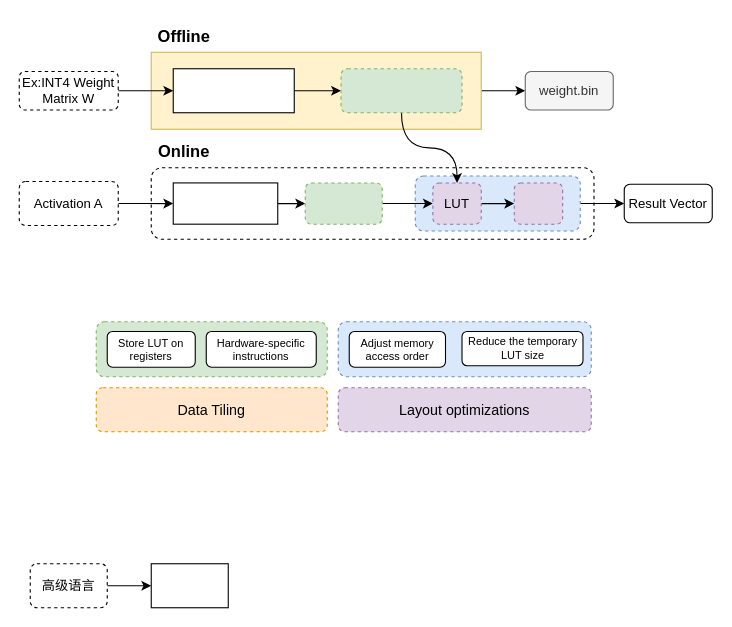
Image size: 732x627. Some labels were removed from this diagram. The shapes that lost their labels are listed below. From the top down, each one's centre as x and y in pixels, then its label:
At point 233,90: "Weight Decomposition".
At point 401,90: "Table Index".
At point 225,203: "Precompute".
At point 343,203: "Table".
At point 538,203: "ADD".
At point 189,585: "编译器".
